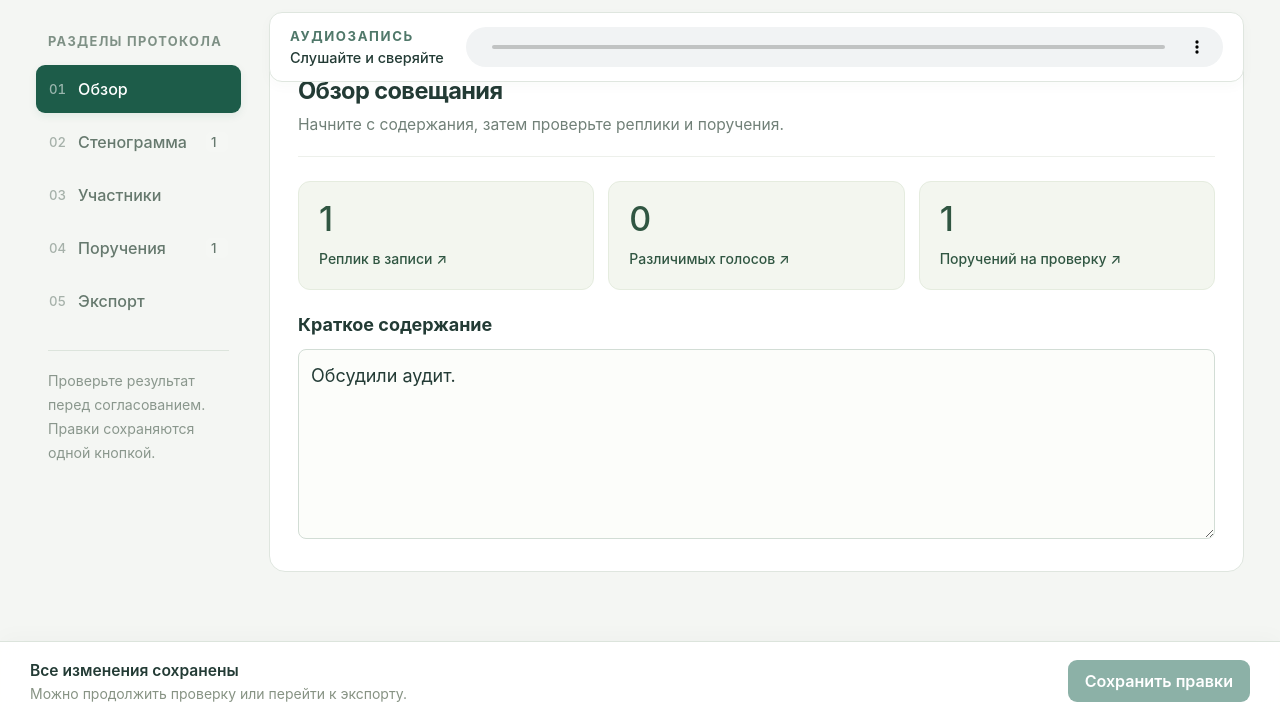
Test: saves only changed fields, prevents edits during save, and starts a new meeting after save
(page scrolled)
Replace the text in the text box named "Краткое содержание" with "Проверенное содержание": (756, 444) [298,349,1215,539]
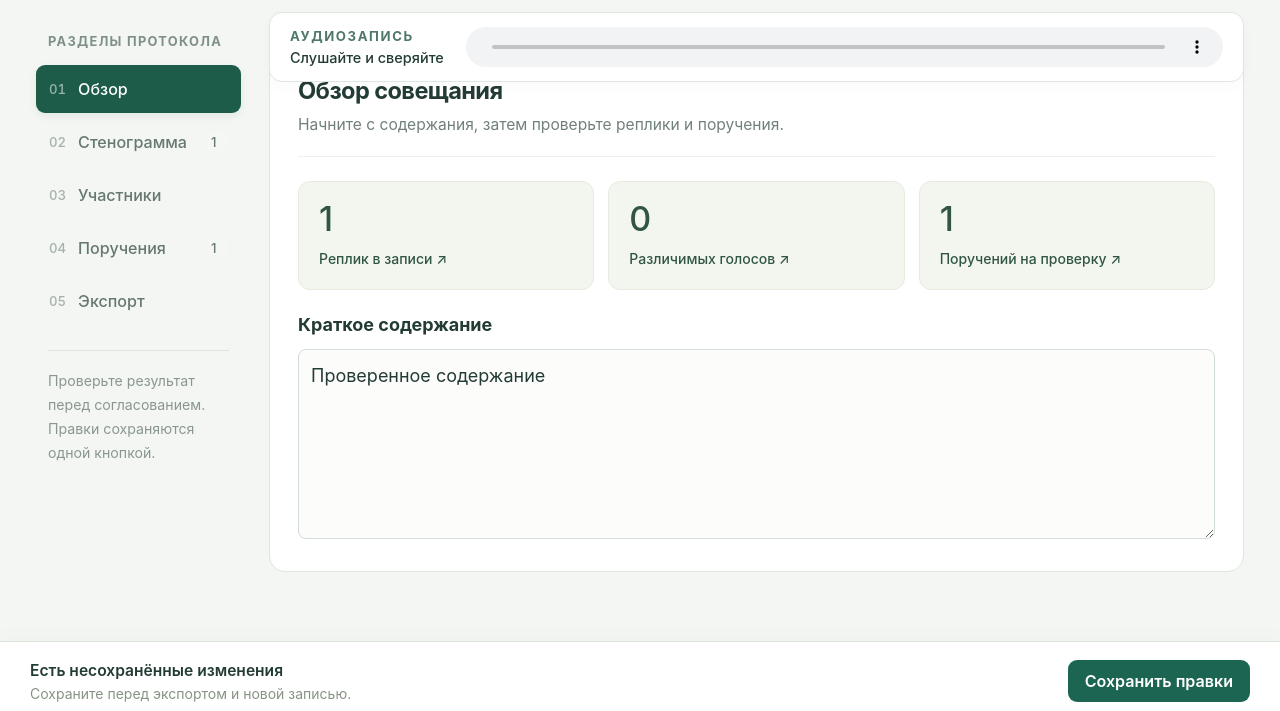
Click the tab "05 Экспорт": (138, 301) [36,277,241,325]
(page scrolled)
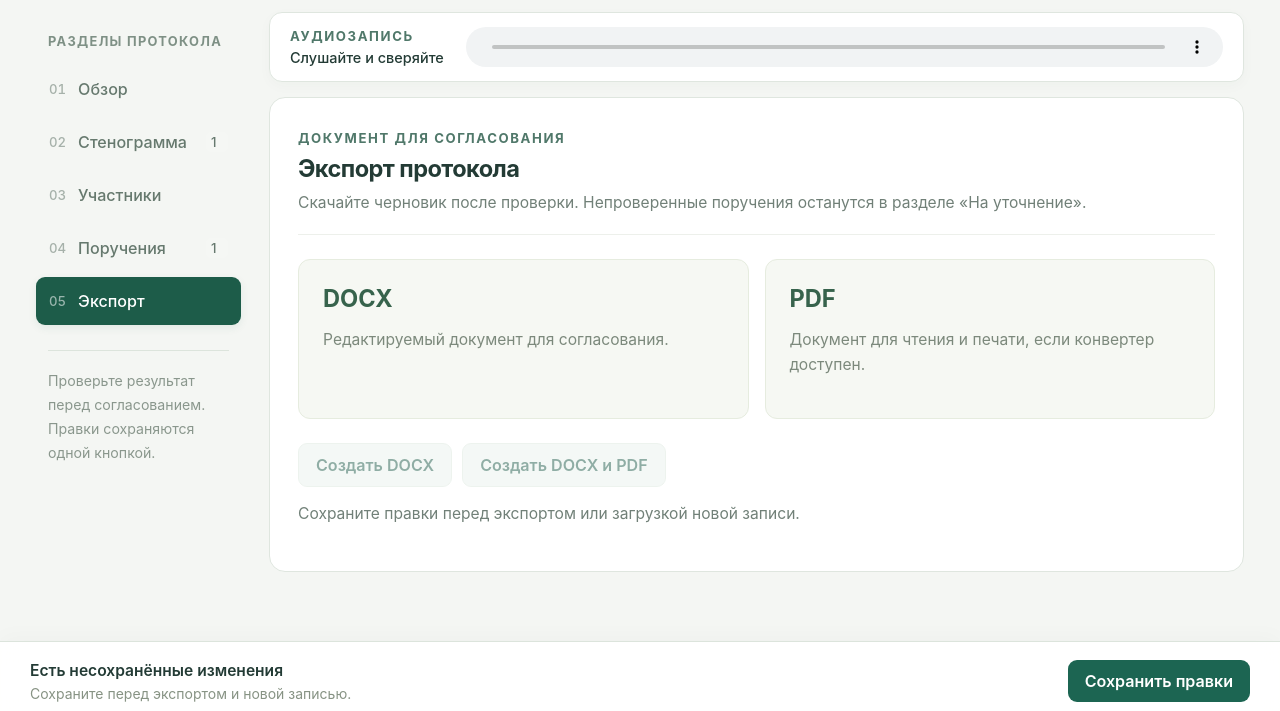
Click the button "Сохранить правки": (1159, 681) [1068,660,1250,702]
(page scrolled)
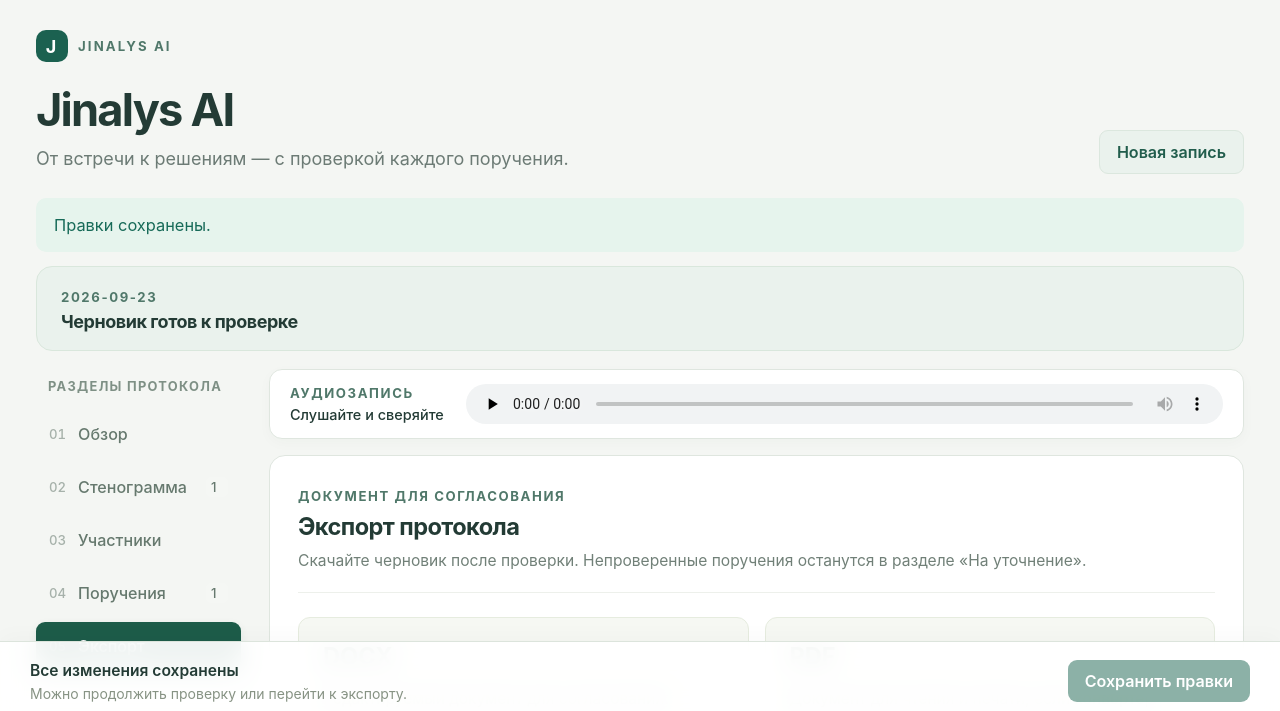
Click the button "Новая запись": (1171, 152) [1099,130,1244,174]
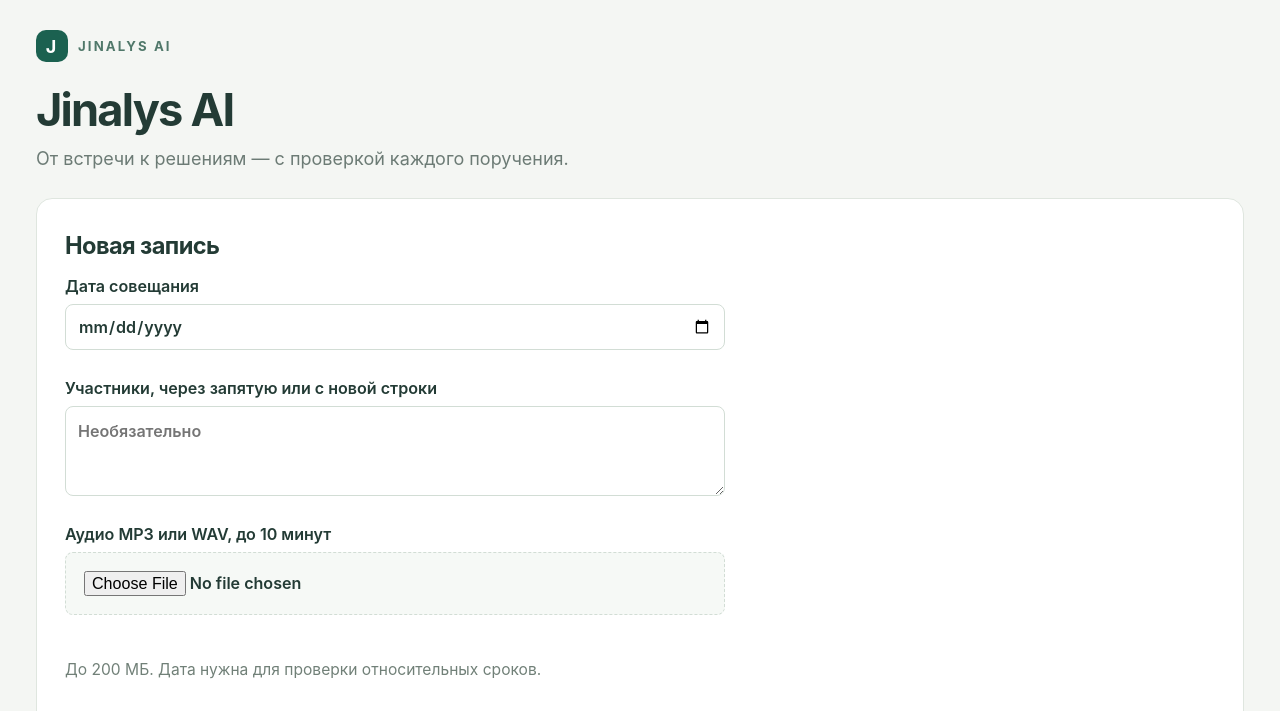
Result: the file field labelled "Аудио MP3 или WAV, до 10 минут" is shown at [65,552,725,615]
